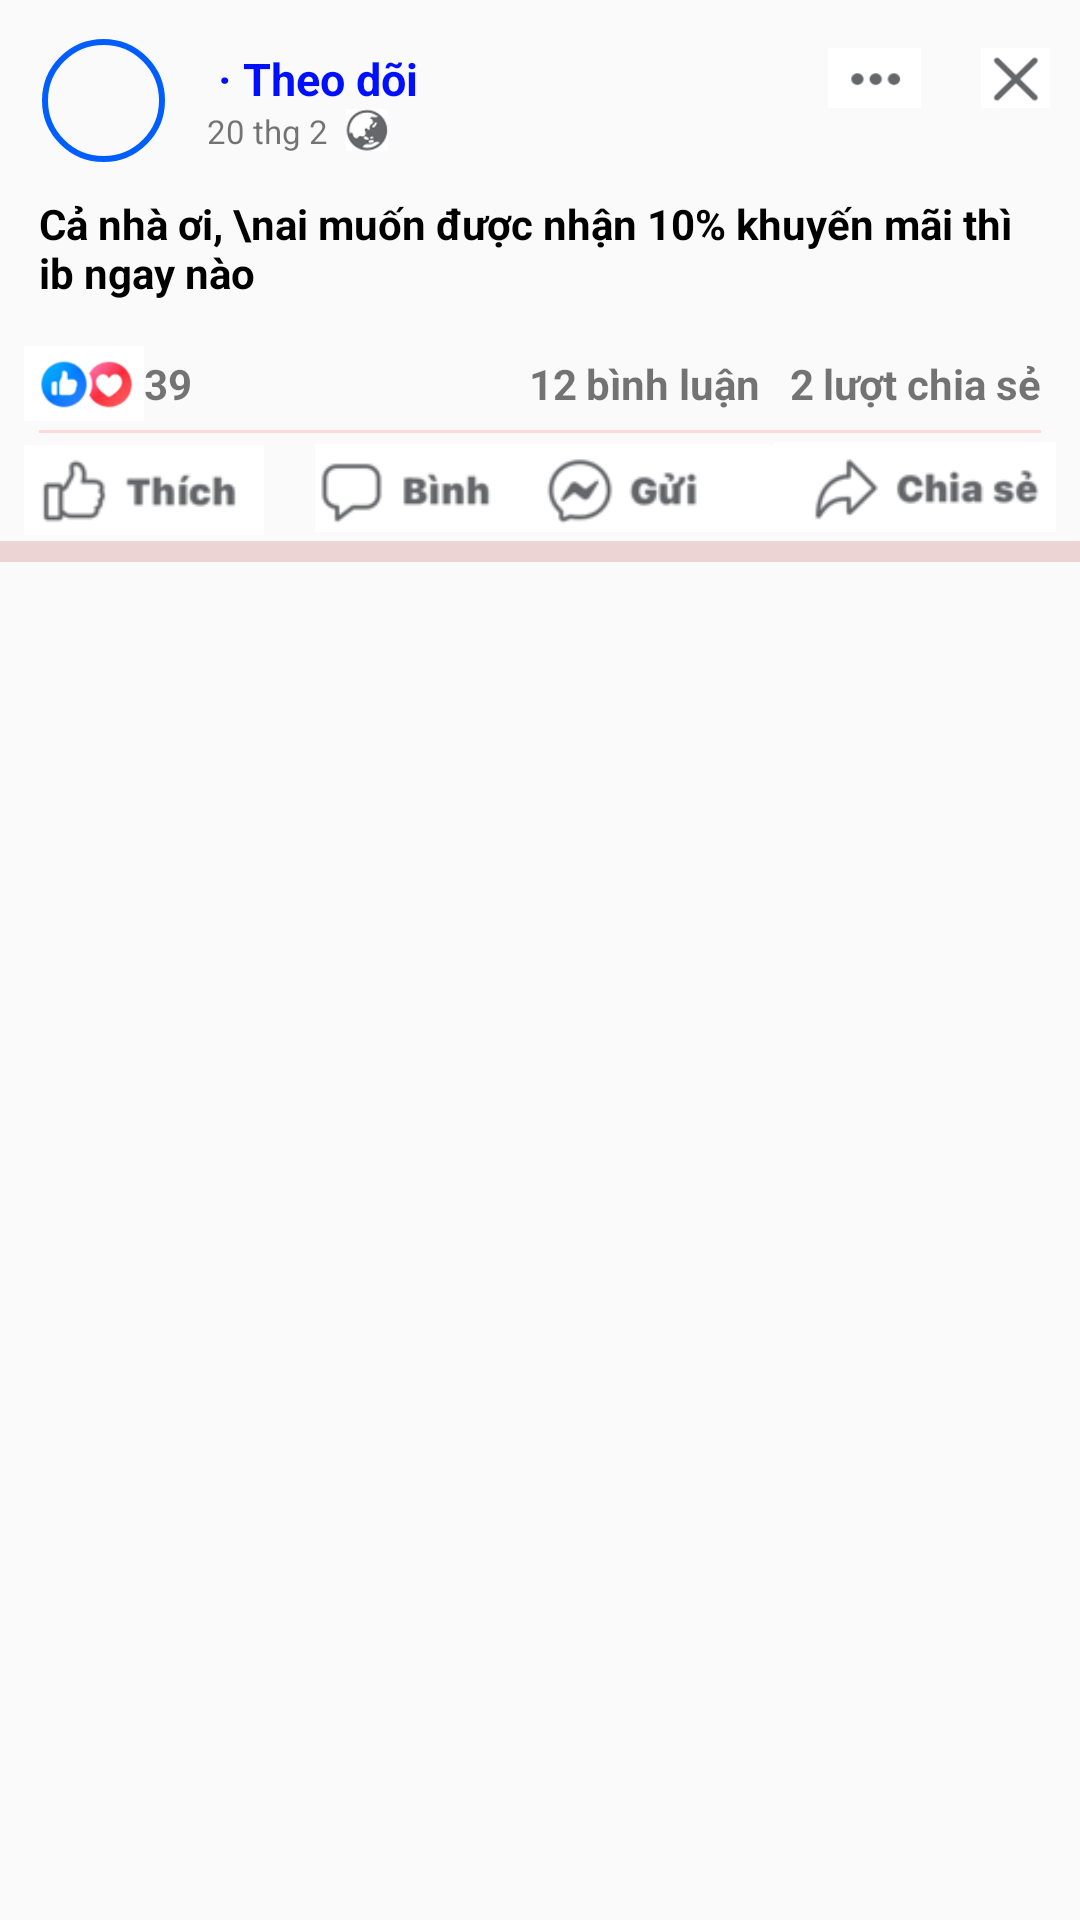

Named icons in this screenshot (1080px x 1920px) and their bounding boxes, (x1, y1, x2, y2):
Lượt cảm xúc: (41, 361, 132, 408)
Quyền riêng tư: (346, 110, 387, 151)
